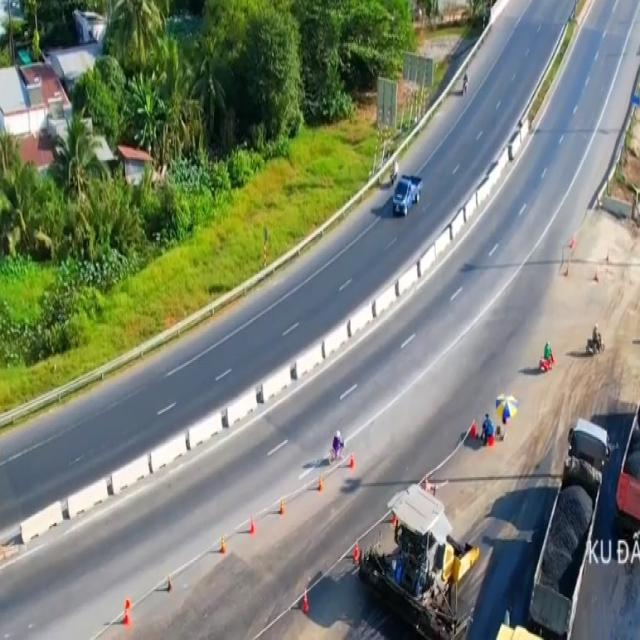motorbike: (538, 340, 554, 374), (588, 325, 604, 356), (461, 72, 470, 95)
truck: (392, 173, 422, 219)
